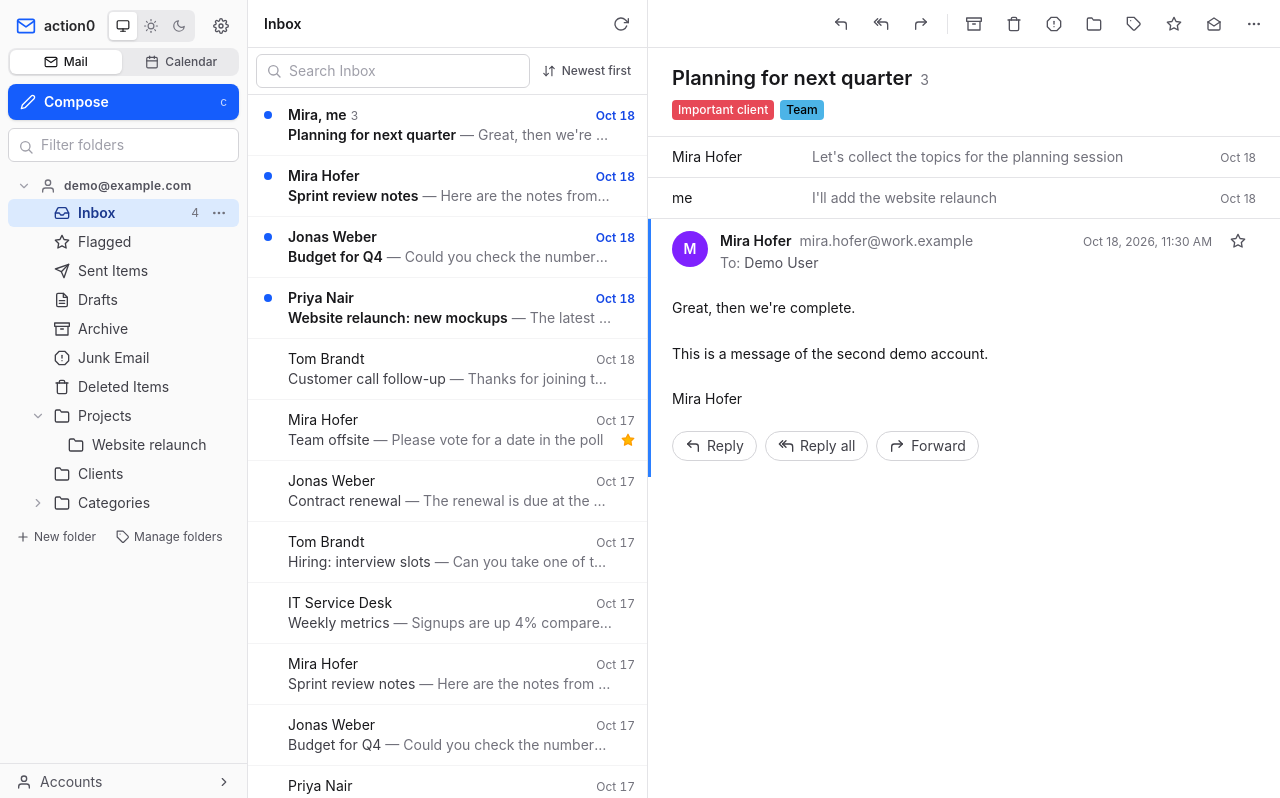
it: Outlook categories › tags every message of a conversation in conversation view
The width and height of the screenshot is (1280, 798).
Type keys "l"
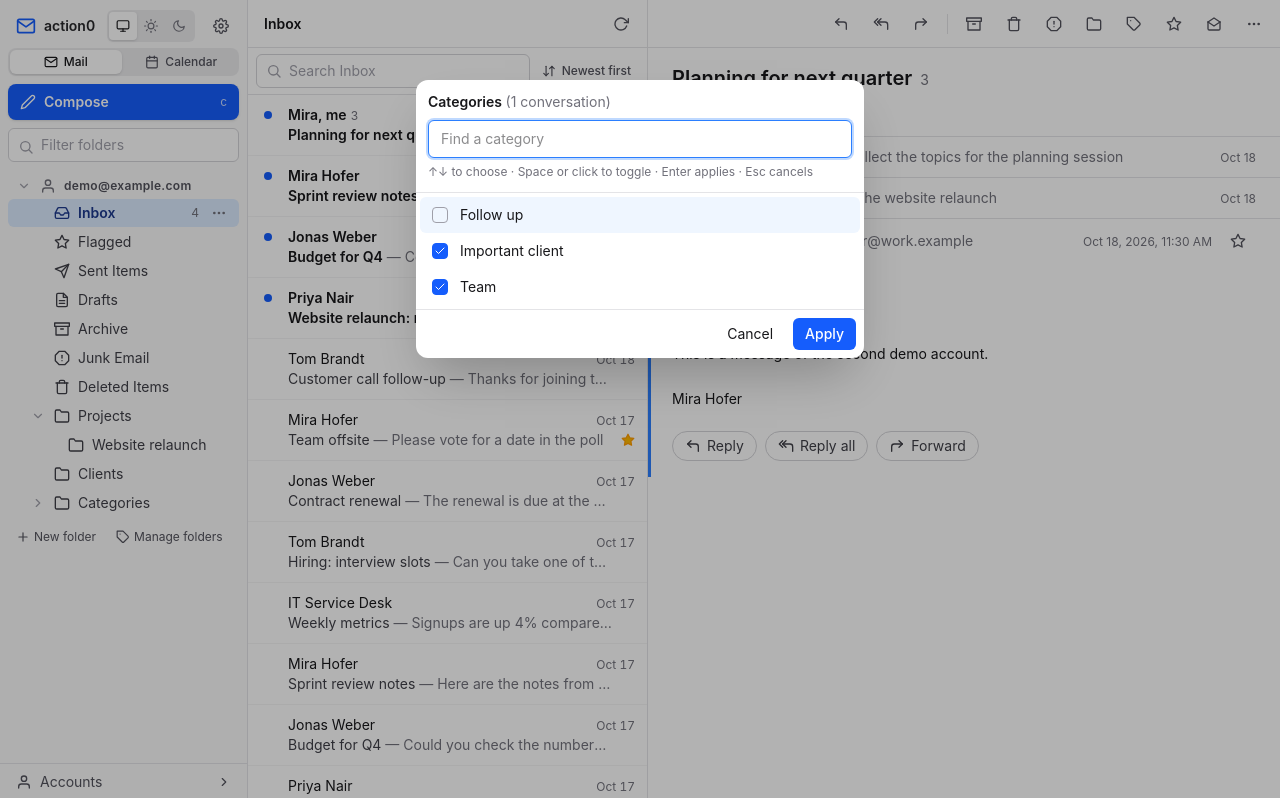
Click the option "Follow up" at (492, 214), box [420,197,860,233]
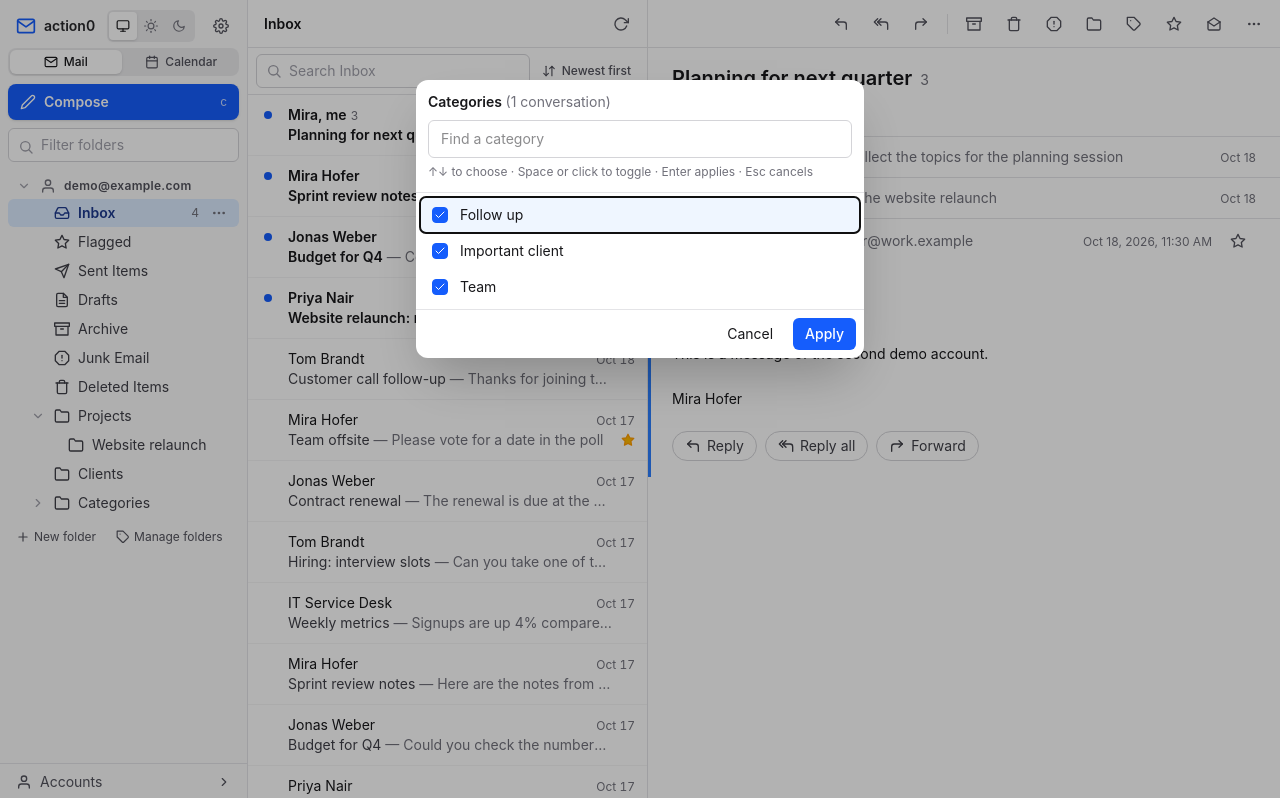
Click the button "Apply" at (825, 334), box [793,318,856,350]
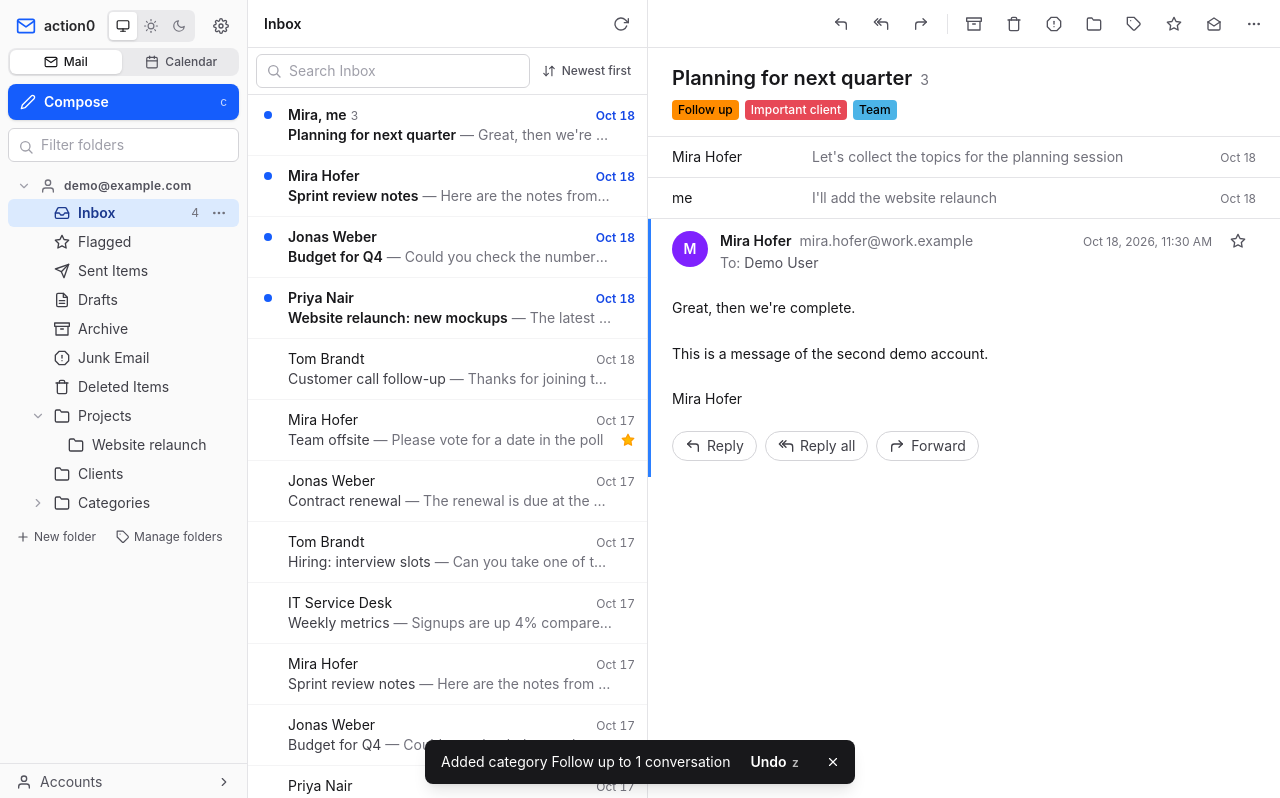
Expected: the text "Added category Follow up to 1 conversation" is shown, [441,752,730,772]
